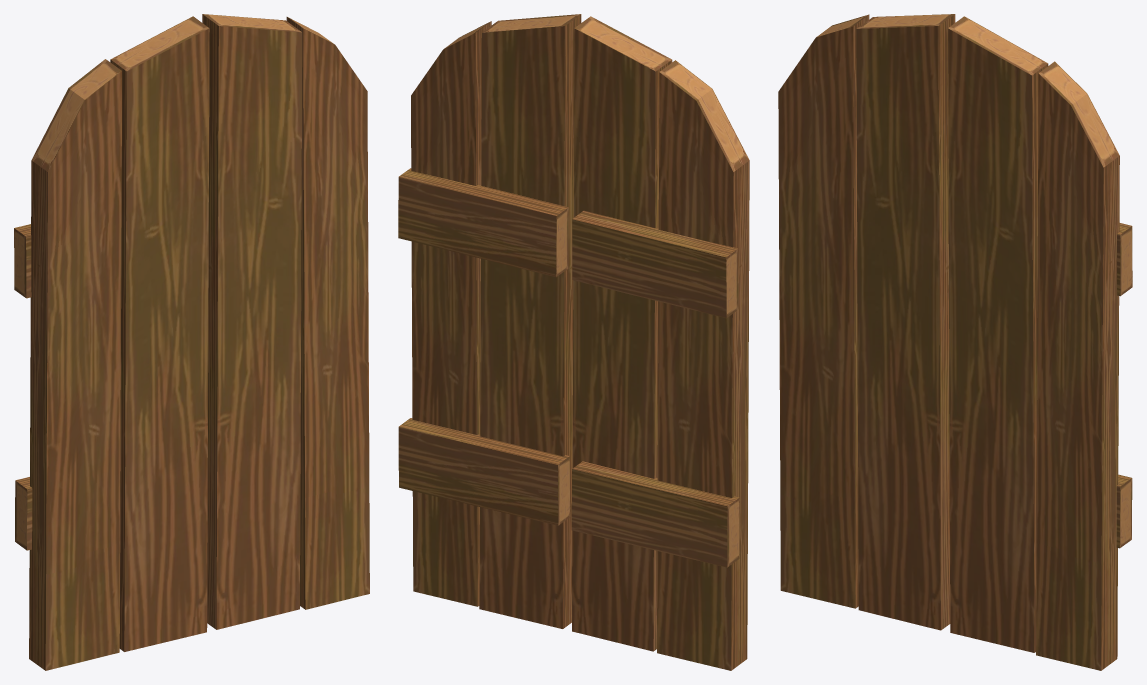
Rendered from WindowShutters_Thin_Round_Closed.glb.
3 renders of one model, left to right at view 1: azimuth 30°, elevation 25°; view 2: azimuth 150°, elevation 25°; view 3: azimuth 330°, elevation 25°, orthographic.
Parts seen in each view (by area): view 1: WindowShutters_Thin_Round_Closed; view 2: WindowShutters_Thin_Round_Closed; view 3: WindowShutters_Thin_Round_Closed.
Part boxes in pixels (x1=…): WindowShutters_Thin_Round_Closed: x1=14, y1=14, x2=369, y2=670; WindowShutters_Thin_Round_Closed: x1=398, y1=14, x2=749, y2=670; WindowShutters_Thin_Round_Closed: x1=778, y1=14, x2=1132, y2=670.
Bounding box in the file's own units: 0.8674 × 1.52 × 0.1357.
1 material, 1 textured.
